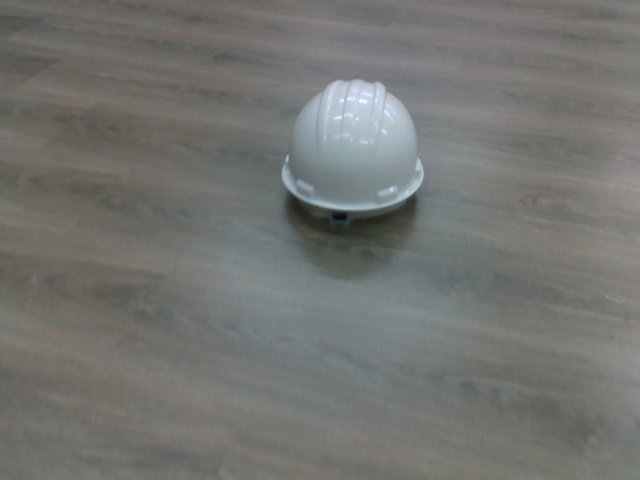helmet: (277, 74, 430, 227)
